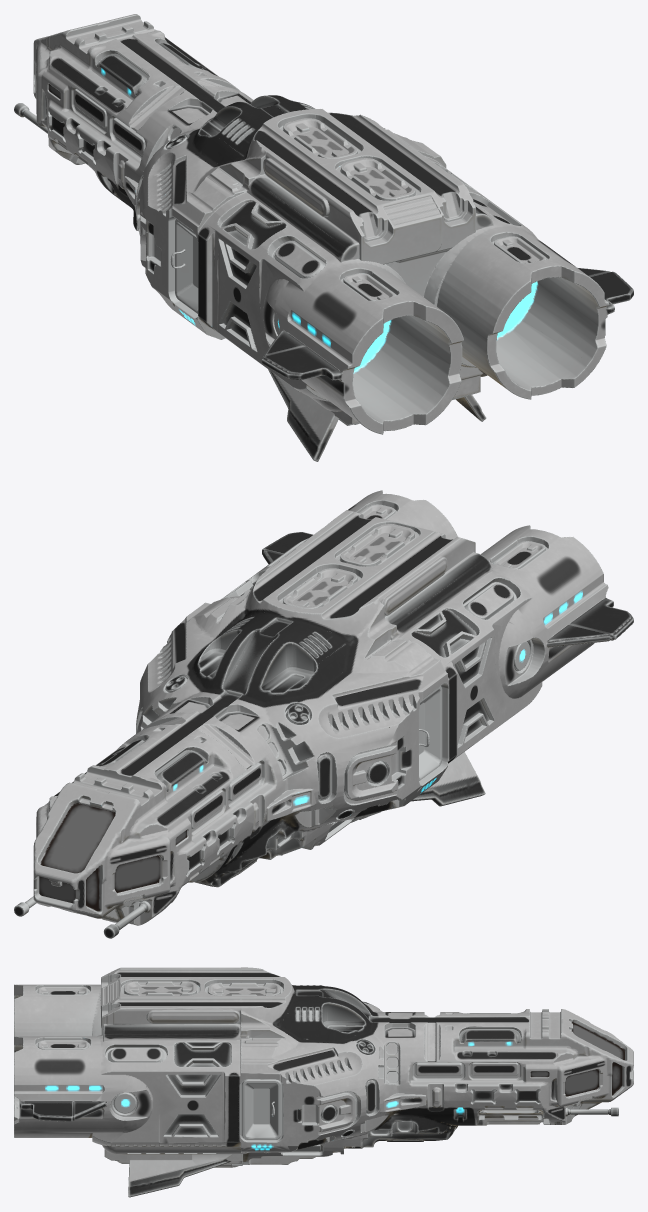
Rendered from SpaceShip.fbx.
3 renders of one model, top to bottom at view 1: azimuth 30°, elevation 25°; view 2: azimuth 150°, elevation 25°; view 3: azimuth 270°, elevation 25°, orthographic. The views are drawn at different scales.
Parts seen in each view (by area): view 1: Layer_1; view 2: Layer_1; view 3: Layer_1.
Boxes of the visible parts, x1,y1,x2,y2 form: Layer_1: [14, 14, 633, 461]; Layer_1: [14, 490, 633, 938]; Layer_1: [14, 967, 633, 1197].
Bounding box in the file's own units: 204 × 136 × 423.
